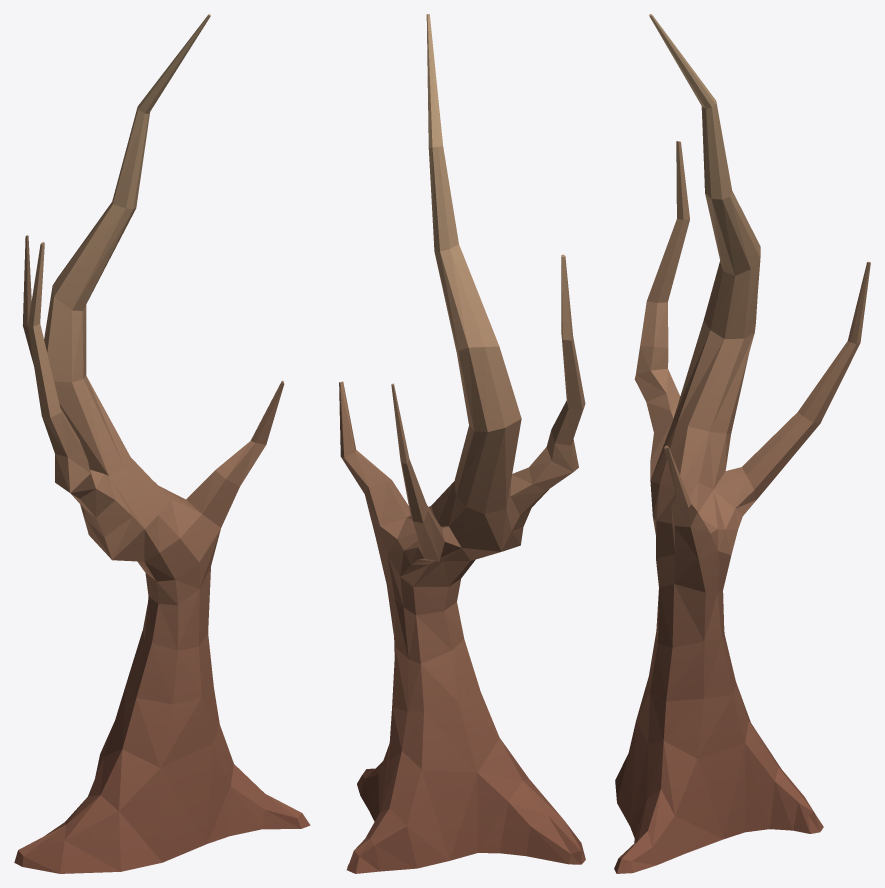
File: Cavern_TreeDead-02.fbx
The picture shows the model from 3 angles, left to right: view 1: azimuth 30°, elevation 25°; view 2: azimuth 150°, elevation 25°; view 3: azimuth 270°, elevation 25°; orthographic projection. The views are drawn at different scales.
Parts seen in each view (by area): view 1: Cavern_TreeDead-02; view 2: Cavern_TreeDead-02; view 3: Cavern_TreeDead-02.
Part boxes in pixels (<box>): Cavern_TreeDead-02: <box>14,14,310,873</box>; Cavern_TreeDead-02: <box>339,14,585,873</box>; Cavern_TreeDead-02: <box>614,14,870,873</box>.
Bounding box in the file's own units: 265 × 798 × 227.
Materials: 1 (1 with a texture image).
